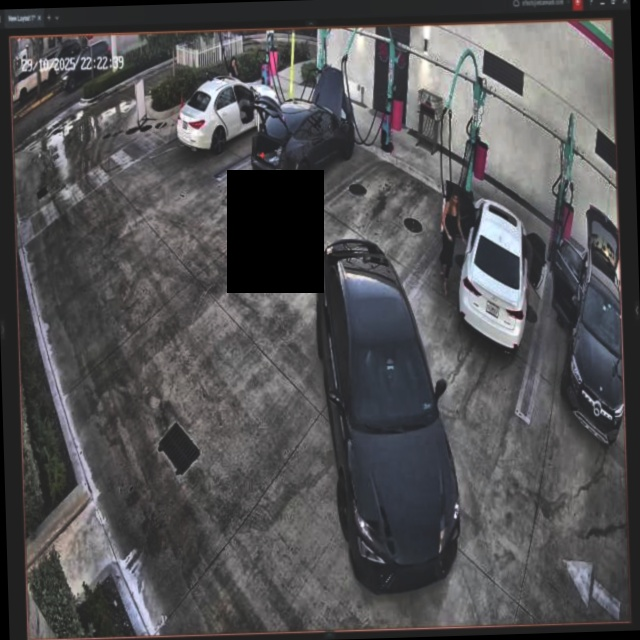Car: (309, 233, 461, 586), (438, 172, 558, 359), (246, 68, 356, 200), (179, 74, 280, 163)
